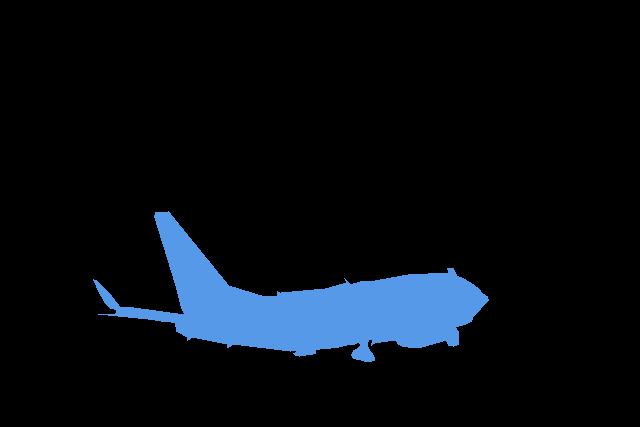Airplane: (93, 211, 489, 362)
